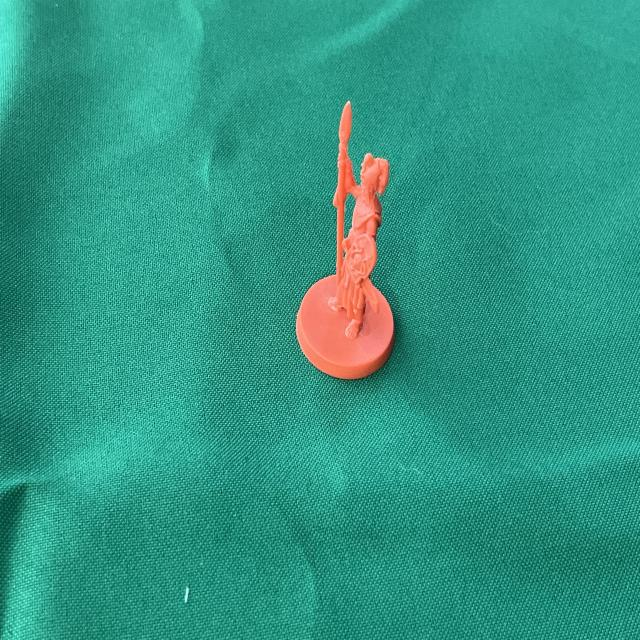amon_follower: (296, 102, 394, 378)
